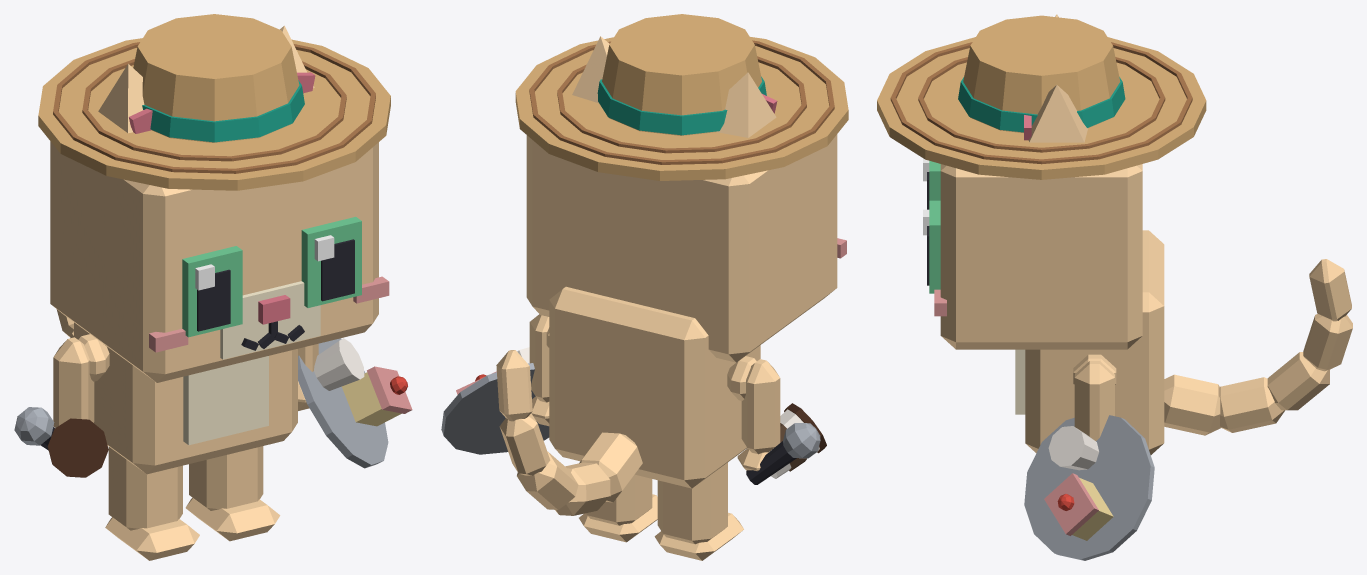
Rendered from CatCafe_Cat_Sandy_Work.glb.
The picture shows the model from 3 angles, left to right: view 1: azimuth 30°, elevation 25°; view 2: azimuth 150°, elevation 25°; view 3: azimuth 270°, elevation 25°; orthographic projection. The views are drawn at different scales.
Parts seen in each view (by area): view 1: CatCafe_Cat_Sandy_Work_Head, CatCafe_Cat_Sandy_Work_Prop, CatCafe_Cat_Sandy_Work_Body, CatCafe_Cat_Sandy_Work_Held_Waiter, CatCafe_Cat_Sandy_Work_LegB2, CatCafe_Cat_Sandy_Work_LegB1, CatCafe_Cat_Sandy_Work_Eye2, CatCafe_Cat_Sandy_Work_Eye1, CatCafe_Cat_Sandy_Work_LegF2, CatCafe_Cat_Sandy_Work_Held_Barista, CatCafe_Cat_Sandy_Work_EarR, CatCafe_Cat_Sandy_Work_Held_Entertainer (+2 smaller); view 2: CatCafe_Cat_Sandy_Work_Head, CatCafe_Cat_Sandy_Work_Prop, CatCafe_Cat_Sandy_Work_Body, CatCafe_Cat_Sandy_Work_Tail, CatCafe_Cat_Sandy_Work_LegB2, CatCafe_Cat_Sandy_Work_Held_Waiter, CatCafe_Cat_Sandy_Work_LegF2, CatCafe_Cat_Sandy_Work_LegB1, CatCafe_Cat_Sandy_Work_EarR, CatCafe_Cat_Sandy_Work_Held_Entertainer, CatCafe_Cat_Sandy_Work_LegF1, CatCafe_Cat_Sandy_Work_EarL (+1 smaller); view 3: CatCafe_Cat_Sandy_Work_Prop, CatCafe_Cat_Sandy_Work_Head, CatCafe_Cat_Sandy_Work_Held_Waiter, CatCafe_Cat_Sandy_Work_Body, CatCafe_Cat_Sandy_Work_Tail, CatCafe_Cat_Sandy_Work_LegF1, CatCafe_Cat_Sandy_Work_EarL, CatCafe_Cat_Sandy_Work_Eye1, CatCafe_Cat_Sandy_Work_Eye2.
Boxes of the visible parts, bbox=[...] form: CatCafe_Cat_Sandy_Work_Head: bbox=[50, 141, 389, 382]; CatCafe_Cat_Sandy_Work_Prop: bbox=[38, 14, 390, 190]; CatCafe_Cat_Sandy_Work_Body: bbox=[74, 322, 297, 474]; CatCafe_Cat_Sandy_Work_Held_Waiter: bbox=[298, 338, 412, 468]; CatCafe_Cat_Sandy_Work_LegB2: bbox=[105, 447, 199, 560]; CatCafe_Cat_Sandy_Work_LegB1: bbox=[185, 446, 280, 541]; CatCafe_Cat_Sandy_Work_Eye2: bbox=[182, 246, 242, 337]; CatCafe_Cat_Sandy_Work_Eye1: bbox=[301, 216, 361, 307]; CatCafe_Cat_Sandy_Work_LegF2: bbox=[53, 337, 94, 427]; CatCafe_Cat_Sandy_Work_Held_Barista: bbox=[47, 418, 108, 477]; CatCafe_Cat_Sandy_Work_EarR: bbox=[98, 63, 152, 133]; CatCafe_Cat_Sandy_Work_Held_Entertainer: bbox=[14, 407, 54, 450]; CatCafe_Cat_Sandy_Work_Head: bbox=[526, 134, 846, 362]; CatCafe_Cat_Sandy_Work_Prop: bbox=[515, 14, 848, 180]; CatCafe_Cat_Sandy_Work_Body: bbox=[546, 286, 760, 488]; CatCafe_Cat_Sandy_Work_Tail: bbox=[496, 350, 642, 515]; CatCafe_Cat_Sandy_Work_LegB2: bbox=[654, 462, 743, 560]; CatCafe_Cat_Sandy_Work_Held_Waiter: bbox=[441, 347, 549, 454]; CatCafe_Cat_Sandy_Work_LegF2: bbox=[737, 359, 780, 471]; CatCafe_Cat_Sandy_Work_LegB1: bbox=[579, 474, 657, 542]; CatCafe_Cat_Sandy_Work_EarR: bbox=[717, 72, 777, 137]; CatCafe_Cat_Sandy_Work_Held_Entertainer: bbox=[746, 423, 820, 484]; CatCafe_Cat_Sandy_Work_LegF1: bbox=[529, 314, 549, 426]; CatCafe_Cat_Sandy_Work_EarL: bbox=[572, 36, 609, 103]; CatCafe_Cat_Sandy_Work_Prop: bbox=[877, 15, 1206, 179]; CatCafe_Cat_Sandy_Work_Head: bbox=[934, 164, 1142, 349]; CatCafe_Cat_Sandy_Work_Held_Waiter: bbox=[1024, 415, 1154, 560]; CatCafe_Cat_Sandy_Work_Body: bbox=[1015, 230, 1164, 454]; CatCafe_Cat_Sandy_Work_Tail: bbox=[1164, 259, 1352, 435]; CatCafe_Cat_Sandy_Work_LegF1: bbox=[1074, 361, 1114, 440]; CatCafe_Cat_Sandy_Work_EarL: bbox=[1024, 85, 1087, 142]; CatCafe_Cat_Sandy_Work_Eye1: bbox=[923, 200, 940, 293]; CatCafe_Cat_Sandy_Work_Eye2: bbox=[923, 158, 940, 209].
Size of the model in its own units: 1.53 by 1.94 by 1.79.
Materials: 1 (1 with a texture image).
